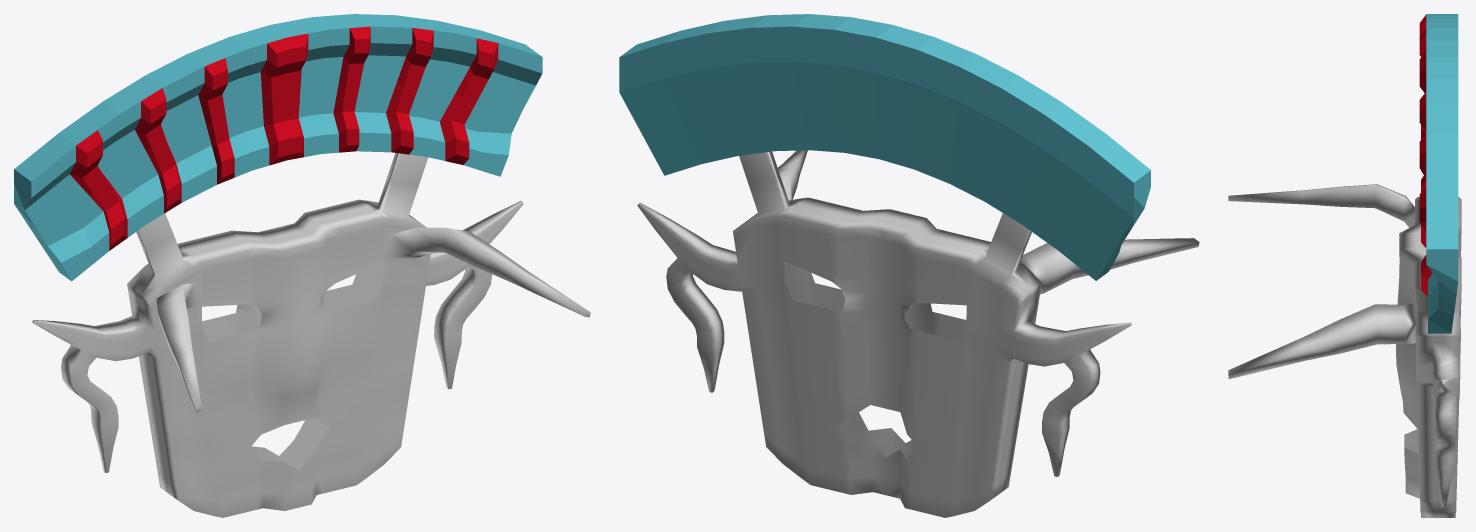
File: Mask.fbx
3 views of the same model, side by side, from view 1: azimuth 30°, elevation 25°; view 2: azimuth 150°, elevation 25°; view 3: azimuth 270°, elevation 25° (orthographic). The views are drawn at different scales.
Visible parts, largest first — view 1: Cube, BezierCurve; view 2: Cube, BezierCurve; view 3: Cube, BezierCurve.
Part boxes in pixels (x1,y1,x2,y2): Cube: (32, 153, 590, 517); BezierCurve: (14, 14, 542, 281); Cube: (637, 150, 1199, 517); BezierCurve: (619, 14, 1150, 280); Cube: (1228, 184, 1461, 517); BezierCurve: (1419, 14, 1458, 333).
Bounding box in the file's own units: 405 × 350 × 172.
